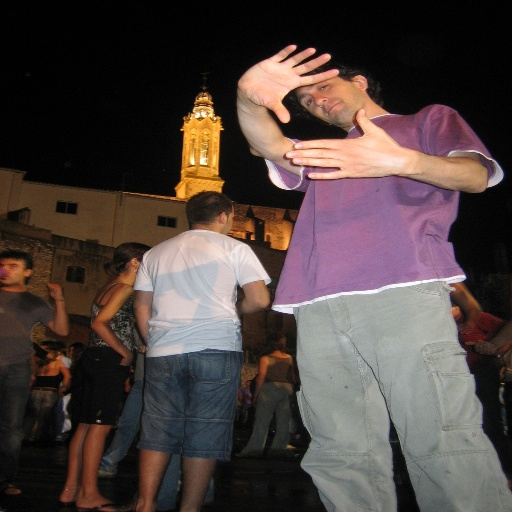hand: (282, 104, 415, 180), (234, 48, 355, 122), (464, 338, 498, 355), (44, 280, 64, 299), (457, 321, 476, 336), (121, 355, 131, 368)
